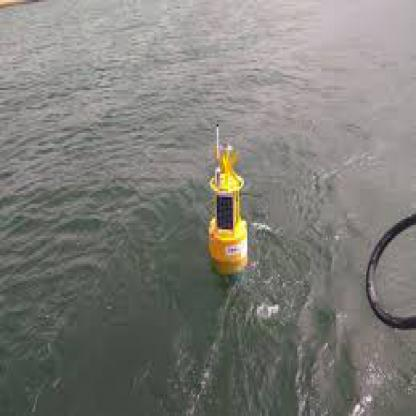buoy: (201, 118, 260, 283)
